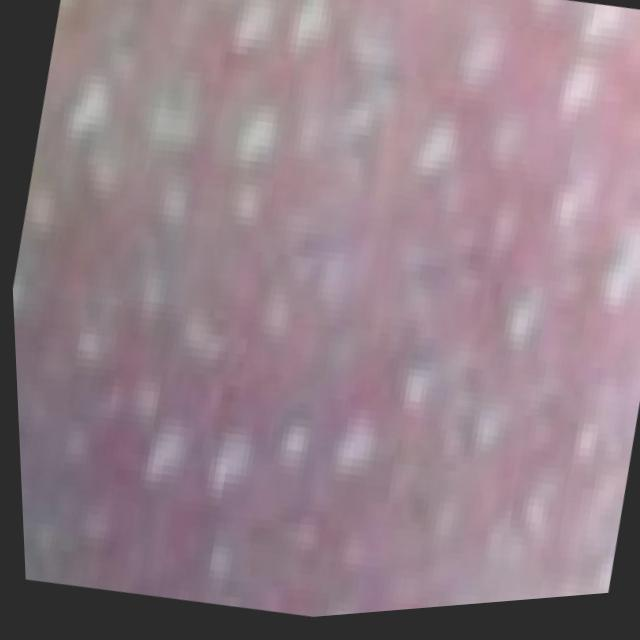whitehead: (10, 0, 640, 622)
